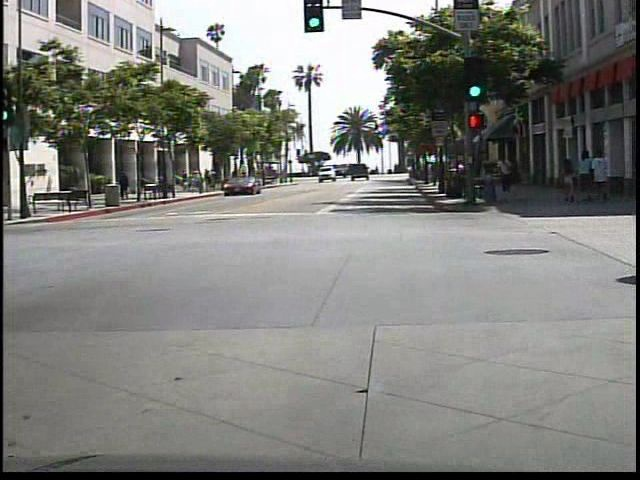person: (492, 151, 516, 196), (116, 163, 134, 206)
